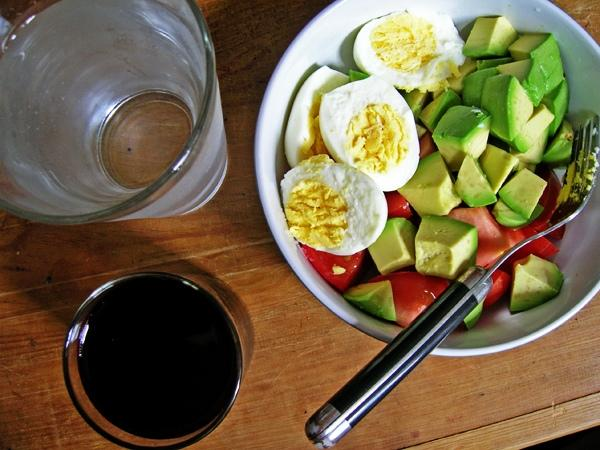avocado: (396, 150, 462, 219), (415, 215, 478, 279), (431, 106, 492, 172), (481, 74, 534, 142), (508, 33, 564, 94), (491, 104, 555, 154), (510, 253, 564, 312), (368, 218, 418, 275), (499, 168, 548, 220), (453, 152, 498, 208), (462, 16, 518, 60), (498, 57, 546, 107), (344, 280, 397, 321), (478, 144, 520, 195), (419, 88, 463, 134), (432, 57, 477, 100), (540, 76, 570, 138), (509, 124, 550, 166), (492, 199, 545, 228), (462, 67, 499, 108), (542, 120, 574, 163), (397, 89, 428, 123), (458, 297, 486, 330), (476, 57, 514, 71), (348, 68, 370, 82), (415, 123, 427, 140)
tomato: (442, 207, 528, 272), (368, 272, 450, 328), (302, 244, 365, 292), (499, 225, 560, 273), (528, 169, 566, 240), (483, 268, 512, 310), (384, 190, 414, 220), (419, 132, 435, 160)
